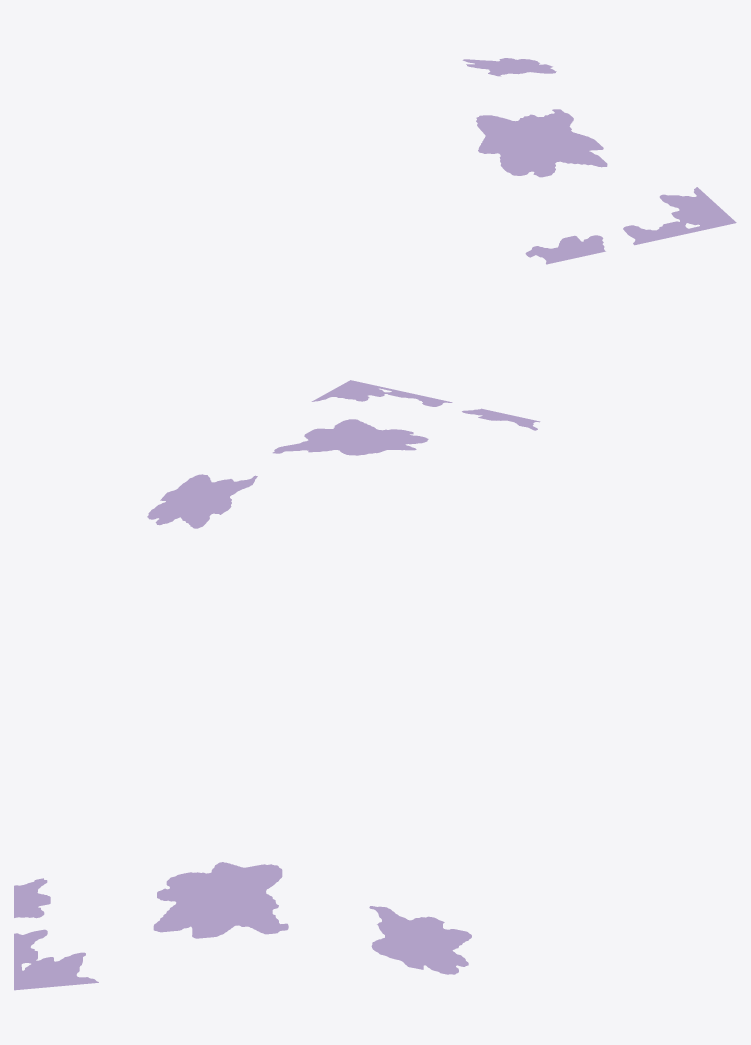
File: SM_flowerpack_A_LOD2.FBX
The picture shows the model from 3 angles, top to bottom: view 1: azimuth 30°, elevation 25°; view 2: azimuth 150°, elevation 25°; view 3: azimuth 270°, elevation 25°; orthographic projection. The views are drawn at different scales.
Parts seen in each view (by area): view 1: SM_flowerpack_A_LOD2; view 2: SM_flowerpack_A_LOD2; view 3: SM_flowerpack_A_LOD2.
Boxes of the visible parts, left/top/right/bottom form: SM_flowerpack_A_LOD2: left=462, top=58, right=736, bottom=264; SM_flowerpack_A_LOD2: left=147, top=380, right=540, bottom=528; SM_flowerpack_A_LOD2: left=14, top=862, right=471, bottom=990.
Size of the model in its own units: 371 by 95.59 by 560.
1 material, 1 textured.
